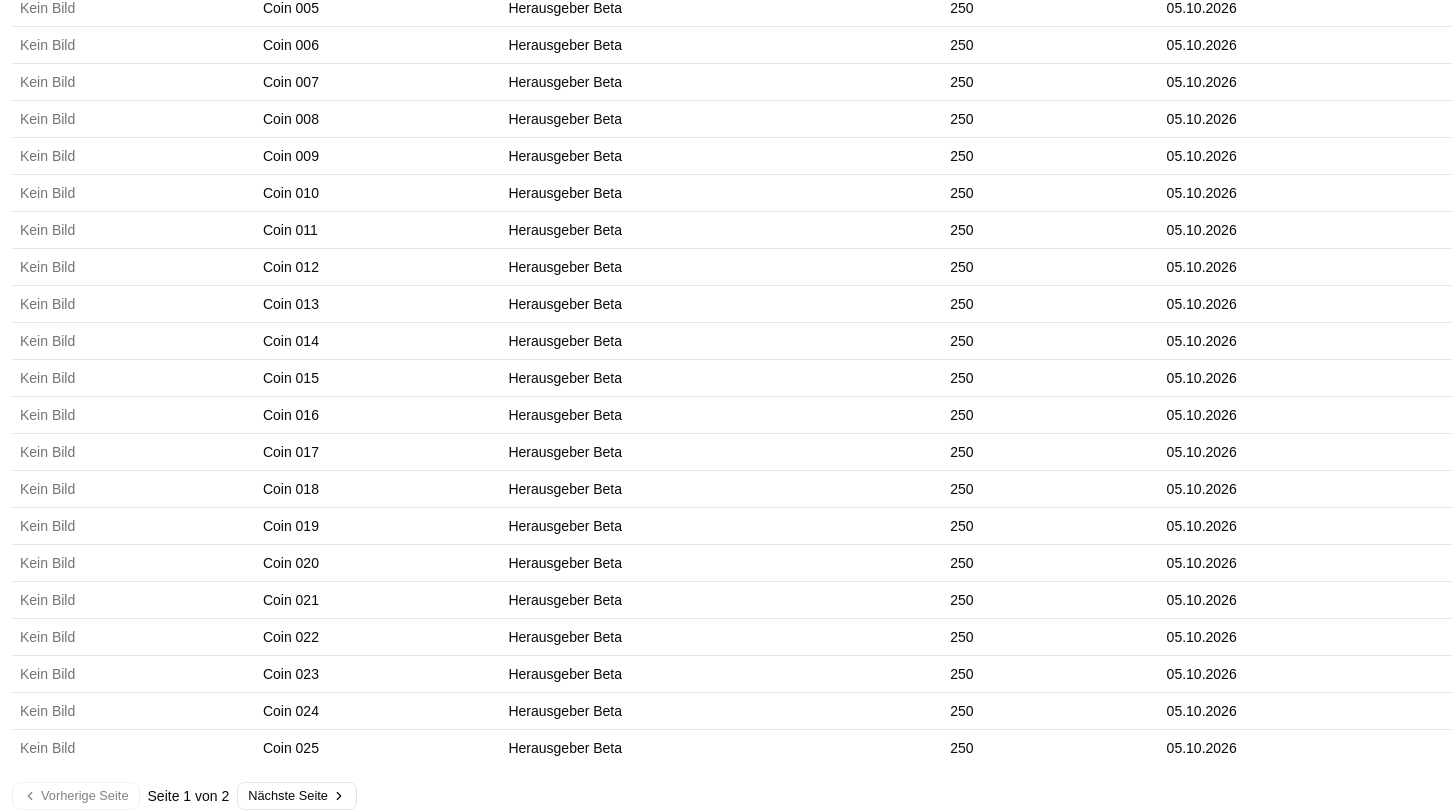
Test: Tabelle und Blättern › lädt nach „Nächste Seite“ die zweite Seite
The width and height of the screenshot is (1452, 810).
(page scrolled)
Click the button "Nächste Seite" at point(297, 796), box [237, 782, 357, 809]
(page scrolled)
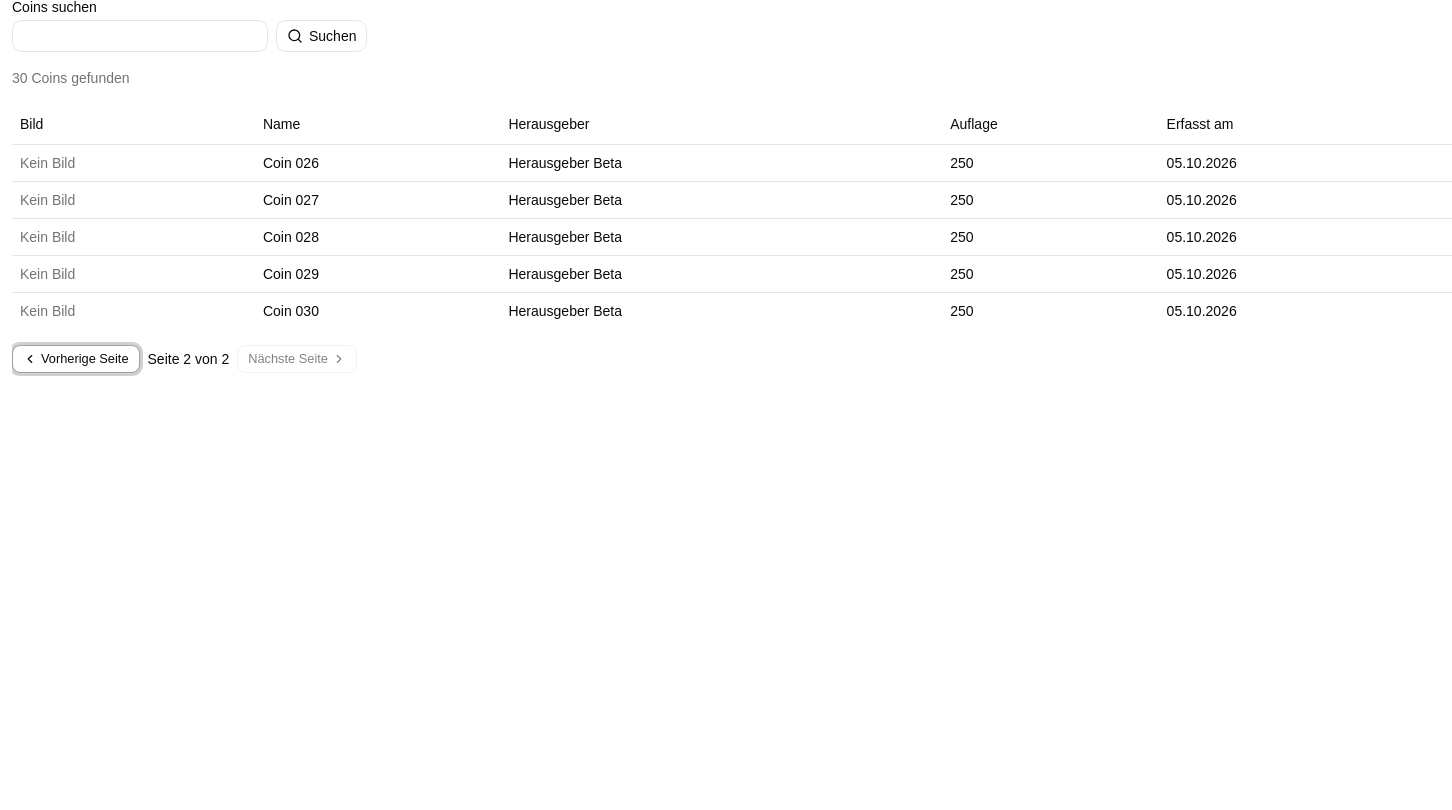
Expected: the link "Coin 026" is shown, [263, 154, 319, 170]
Expected: the text "Seite 2 von 2" is shown, [148, 348, 229, 368]
